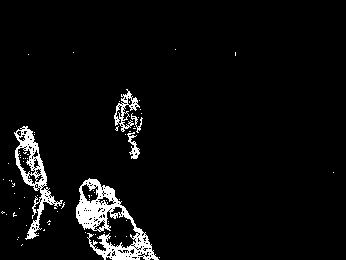person: (12, 125, 67, 241), (103, 202, 162, 260), (75, 176, 113, 260), (113, 87, 144, 161)
